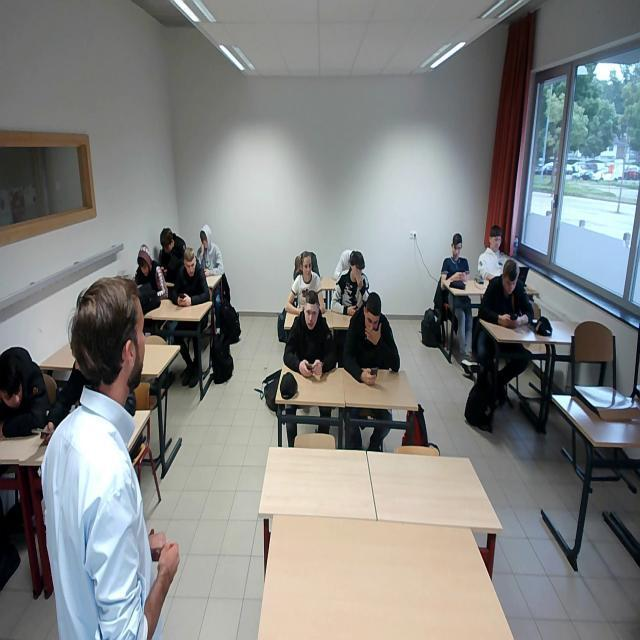Looking away: (488, 226, 503, 254), (139, 246, 152, 278), (352, 252, 362, 284), (302, 252, 312, 282)
Phone use: (341, 290, 402, 384), (483, 260, 542, 336), (291, 293, 336, 385), (172, 252, 211, 311), (157, 220, 185, 280), (442, 228, 470, 288)
